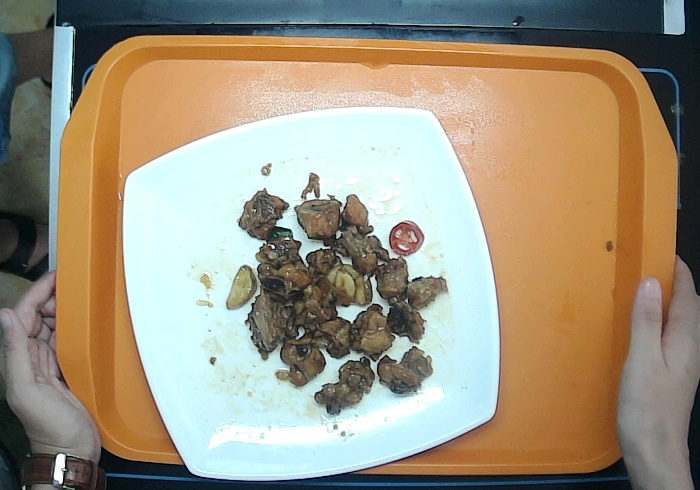ZNLD-Bai_Fang_Pan: (119, 104, 502, 488)
